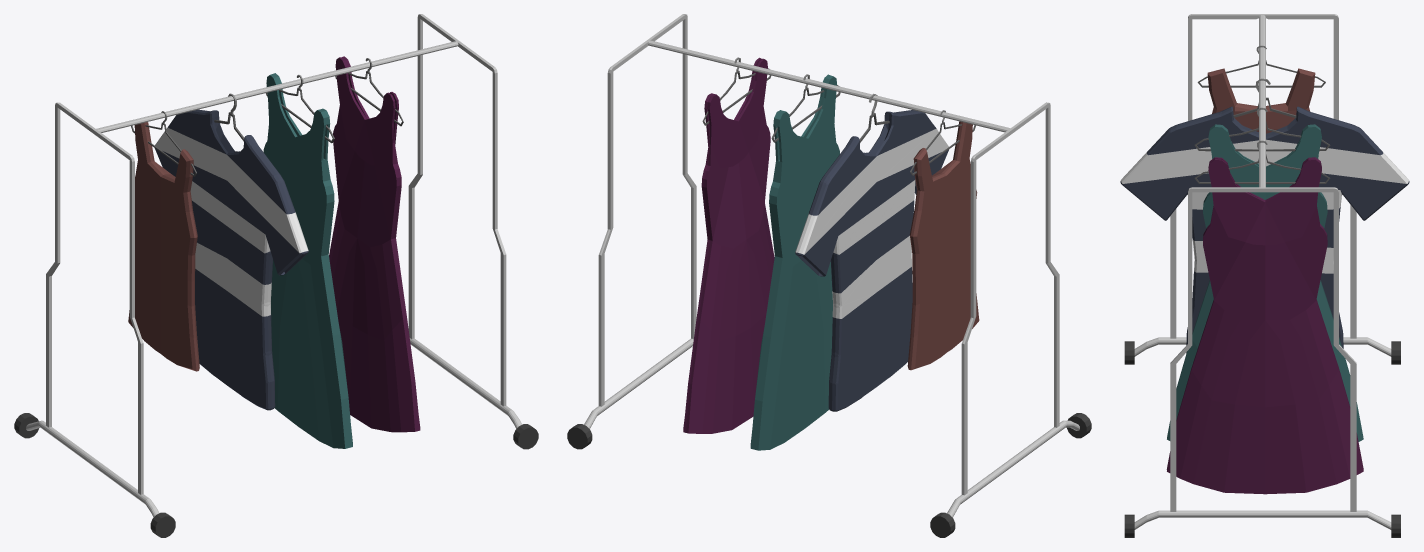
Rendered from Damit.fbx.
3 views of the same model, side by side, from view 1: azimuth 30°, elevation 25°; view 2: azimuth 150°, elevation 25°; view 3: azimuth 270°, elevation 25° (orthographic). The views are drawn at different scales.
Visible parts, largest first — view 1: Cylinder; view 2: Cylinder; view 3: Cylinder.
Part boxes in pixels (<box>): Cylinder: <box>14,14,538,537</box>; Cylinder: <box>567,14,1091,537</box>; Cylinder: <box>1120,14,1409,537</box>.
Bounding box in the file's own units: 124 × 112 × 83.2.
